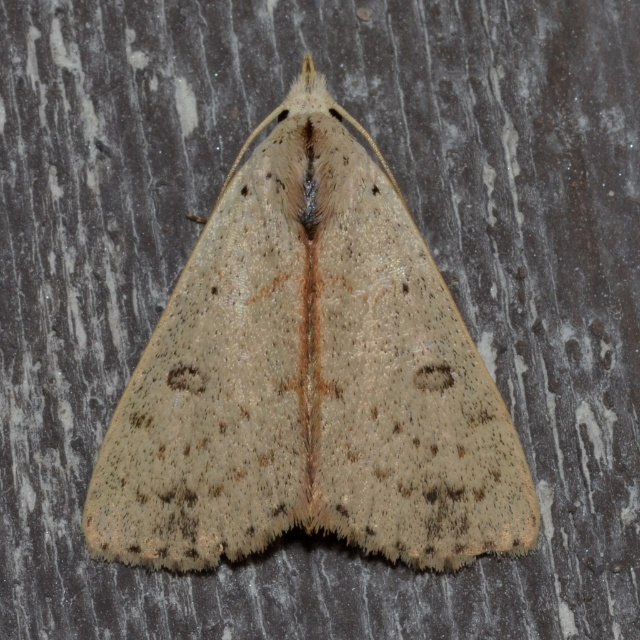Moths and butterflies: (78, 55, 541, 576)
